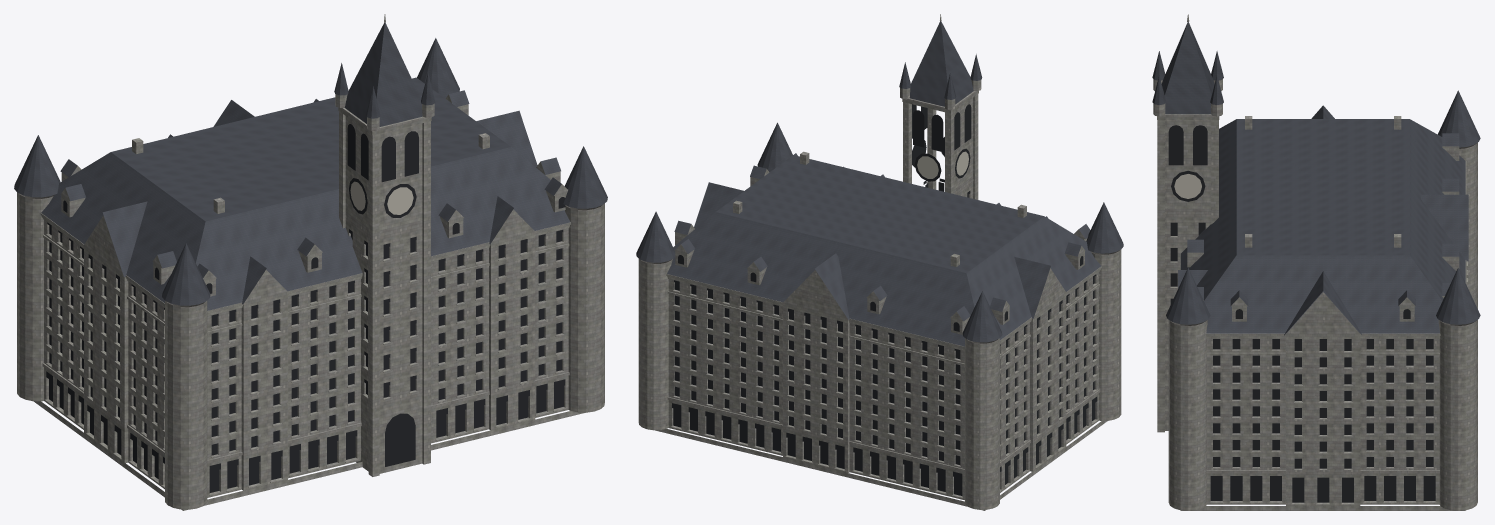
File: old_post_office.glb
The picture shows the model from 3 angles, left to right: view 1: azimuth 30°, elevation 25°; view 2: azimuth 150°, elevation 25°; view 3: azimuth 270°, elevation 25°; orthographic projection. The views are drawn at different scales.
Parts seen in each view (by area): view 1: old_post_office; view 2: old_post_office; view 3: old_post_office.
Part boxes in pixels (x1=…): old_post_office: x1=14, y1=14, x2=607, y2=510; old_post_office: x1=636, y1=14, x2=1123, y2=510; old_post_office: x1=1152, y1=14, x2=1480, y2=510.
Bounding box in the file's own units: 99.6 × 96 × 70.5.
Materials: 3 (3 with a texture image).
